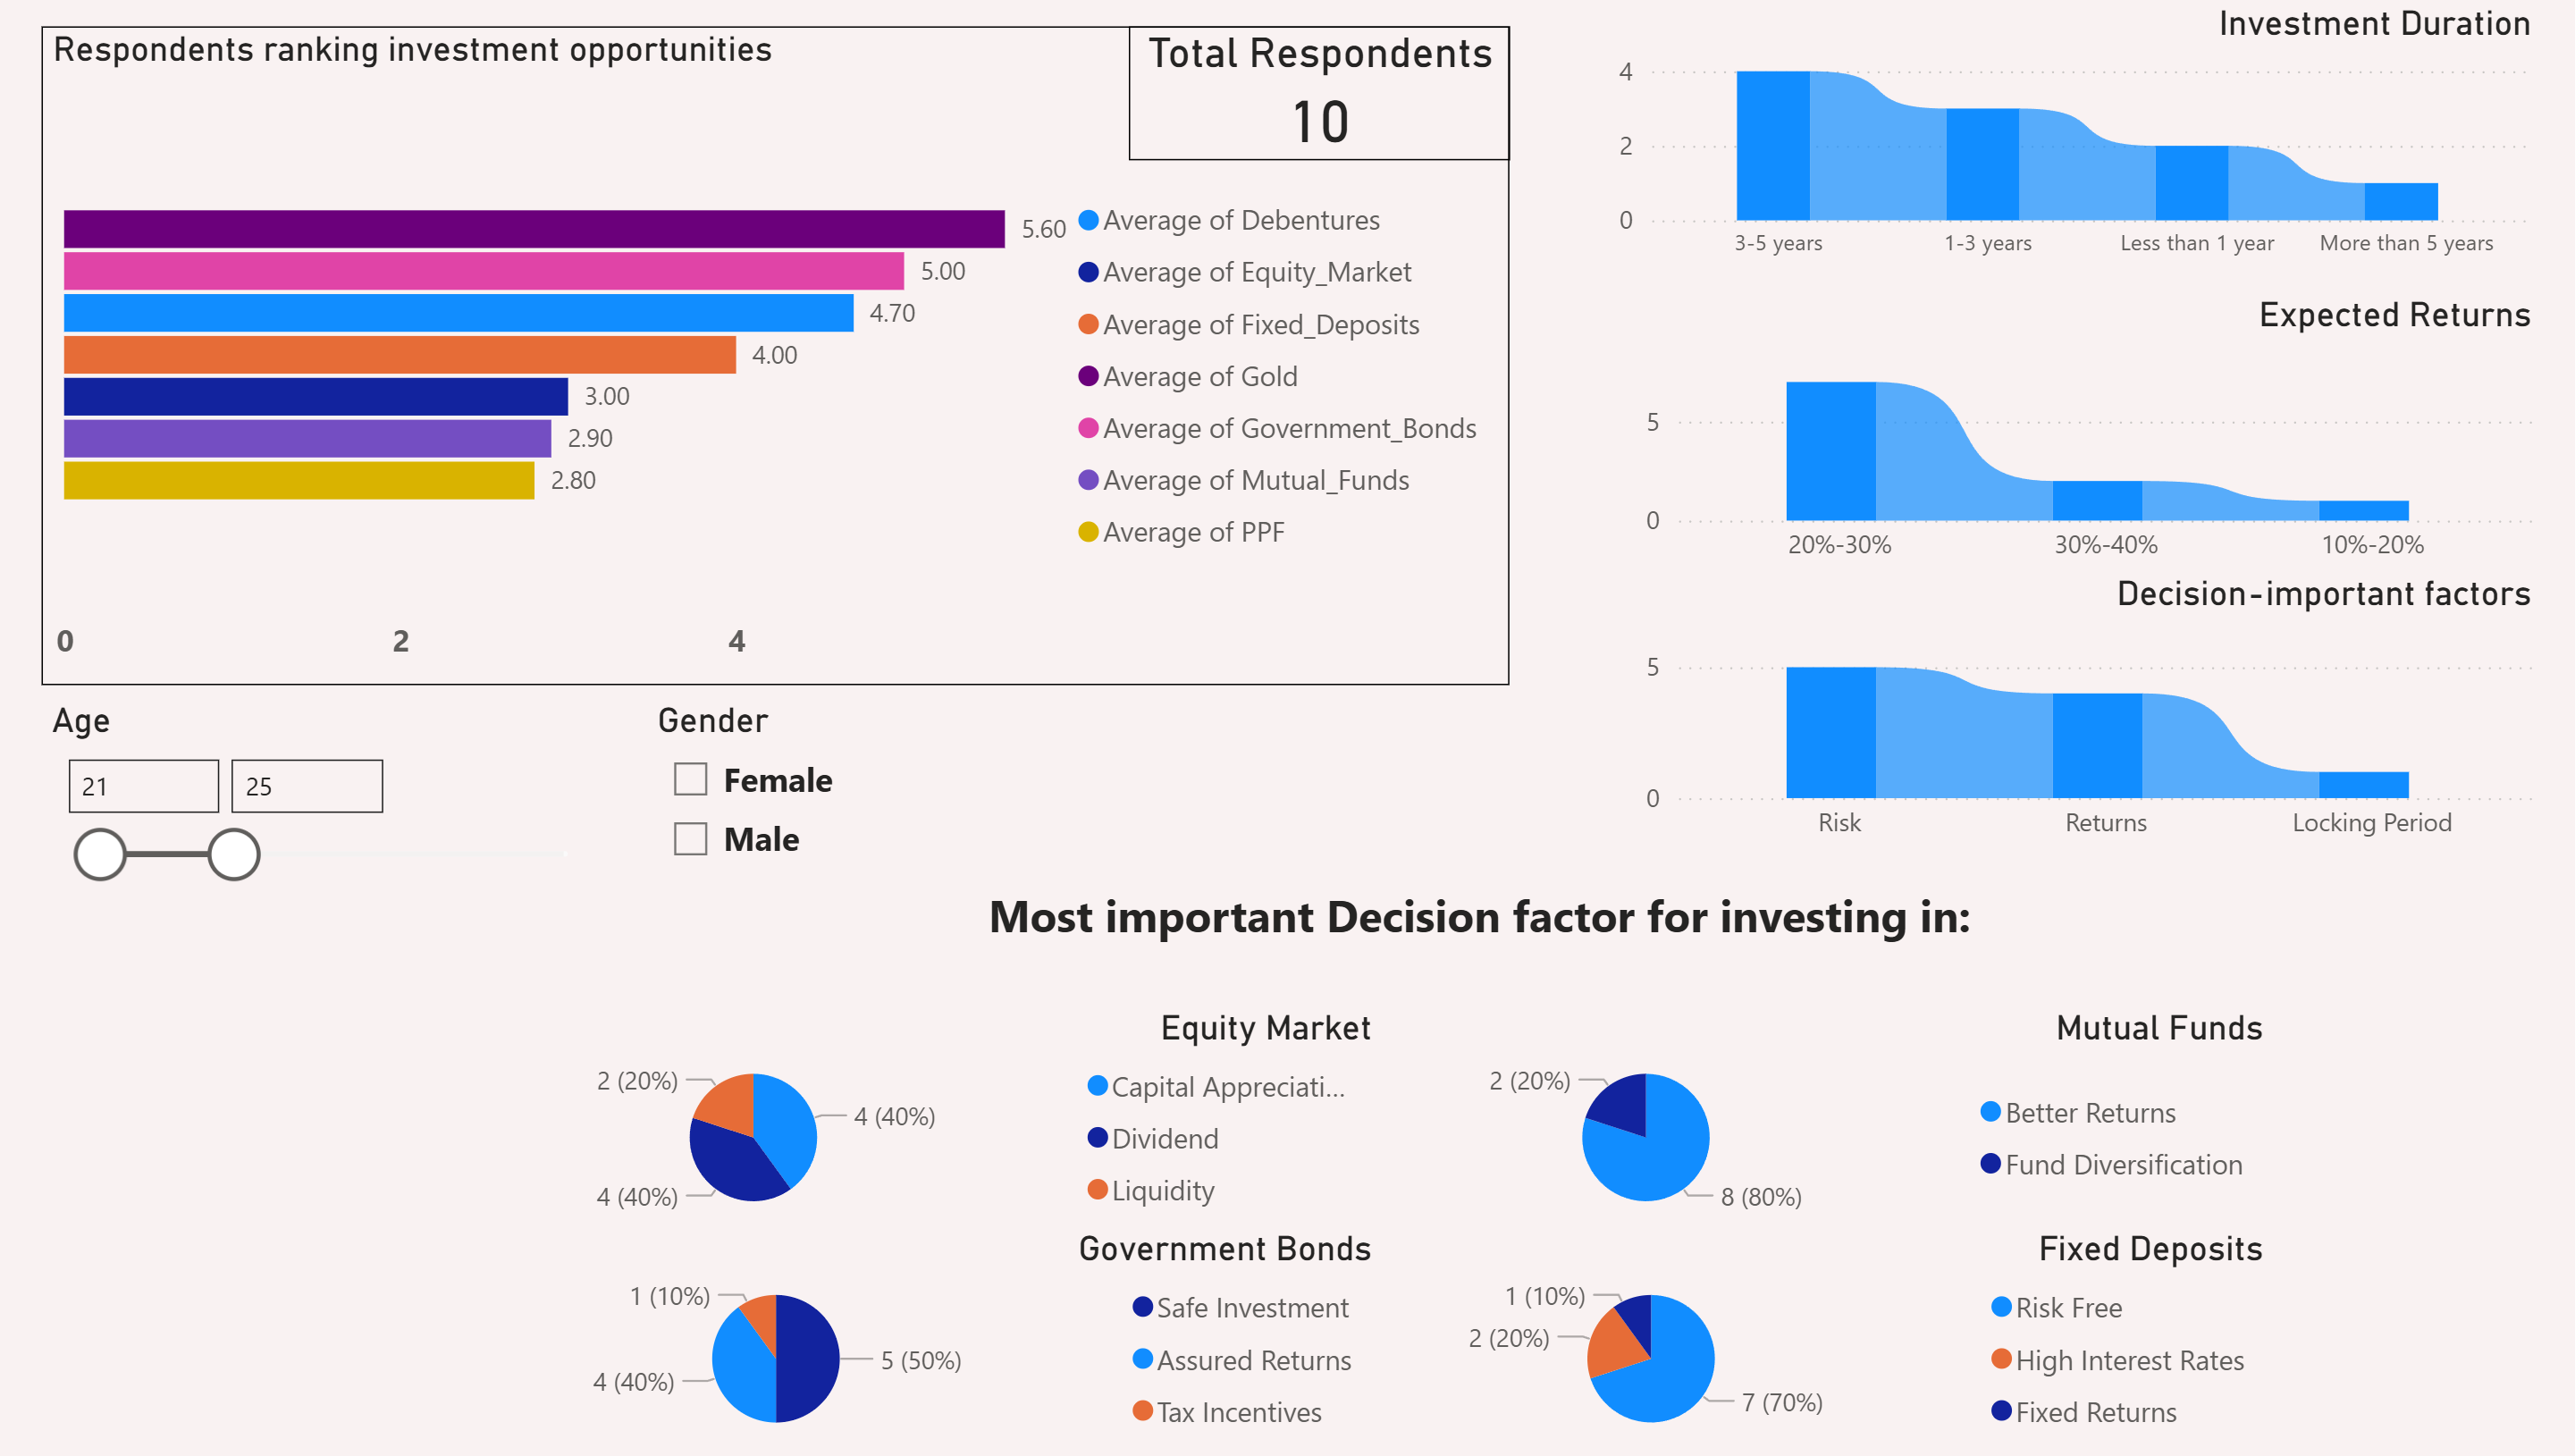

What the dashboard file says about the page in this screenshot:
{"tool":"powerbi","page":{"name":"Page 1","canvas":[1280,720],"ordinal":0},"visuals":[{"type":"slicer","fields":{"Values":["finance_dataset finance_data.age"]},"box":[16.3,340.1,277.9,97.4],"z":0},{"type":"slicer","fields":{"Values":["finance_dataset finance_data.gender"]},"box":[309.3,334.8,146.5,91.6],"z":1000},{"type":"clusteredBarChart","title":"Average respondents ranking","fields":{"Y":["Avg(finance_dataset finance_data.Debentures)","Avg(finance_dataset finance_data.Equity_Market)","Avg(finance_dataset finance_data.Fixed_Deposits)","Avg(finance_dataset finance_data.Gold)","Avg(finance_dataset finance_data.Government_Bonds)","Avg(finance_dataset finance_data.Mutual_Funds)","Avg(finance_dataset finance_data.PPF)"]},"box":[0,7.2,716.1,315.9],"z":2000},{"type":"pieChart","fields":{"Category":["finance_dataset finance_data.Duration"],"Y":["CountNonNull(finance_dataset finance_data.Duration)"]},"box":[725.9,7.2,456.5,134.7],"z":3000},{"type":"pieChart","fields":{"Category":["finance_dataset finance_data.Expect"],"Y":["CountNonNull(finance_dataset finance_data.Expect)"]},"box":[944.3,359.7,327,109.9],"z":4000},{"type":"pieChart","fields":{"Category":["finance_dataset finance_data.Purpose"],"Y":["CountNonNull(finance_dataset finance_data.Purpose)"]},"box":[689.9,245.2,456.5,114.4],"z":5000},{"type":"pieChart","fields":{"Category":["finance_dataset finance_data.Reason_Bonds"],"Y":["CountNonNull(finance_dataset finance_data.Reason_Bonds)"]},"box":[0,577.9,482.6,107.9],"z":6000},{"type":"pieChart","fields":{"Category":["finance_dataset finance_data.Objective"],"Y":["CountNonNull(finance_dataset finance_data.Objective)"]},"box":[775.6,141.9,504.2,108.6],"z":6001},{"type":"pieChart","fields":{"Category":["finance_dataset finance_data.Reason_Equity"],"Y":["CountNonNull(finance_dataset finance_data.Reason_Equity)"]},"box":[0,449.9,506.8,107.9],"z":6002},{"type":"pieChart","fields":{"Category":["finance_dataset finance_data.Reason_FD"],"Y":["CountNonNull(finance_dataset finance_data.Reason_FD)"]},"box":[506.8,449.9,482.6,107.9],"z":6003},{"type":"pieChart","fields":{"Category":["finance_dataset finance_data.Reason_Mutual"],"Y":["CountNonNull(finance_dataset finance_data.Reason_Mutual)"]},"box":[506.8,577.9,482.6,107.9],"z":6004}]}

Visuals, with their boxes in screenshot pixels (x1, y1, x2, y2), scaled from the page's 1280x720 canvas onto the 2575x1456 screenshot:
slicer - finance_dataset finance_data.age: <box>33,687,592,885</box>
slicer - finance_dataset finance_data.gender: <box>622,677,917,863</box>
"Average respondents ranking" clusteredBarChart: <box>0,14,1441,653</box>
pieChart - finance_dataset finance_data.Duration x CountNonNull(finance_dataset finance_data.Duration): <box>1460,14,2378,287</box>
pieChart - finance_dataset finance_data.Expect x CountNonNull(finance_dataset finance_data.Expect): <box>1899,728,2557,949</box>
pieChart - finance_dataset finance_data.Purpose x CountNonNull(finance_dataset finance_data.Purpose): <box>1388,496,2306,728</box>
pieChart - finance_dataset finance_data.Reason_Bonds x CountNonNull(finance_dataset finance_data.Reason_Bonds): <box>0,1168,971,1387</box>
pieChart - finance_dataset finance_data.Objective x CountNonNull(finance_dataset finance_data.Objective): <box>1561,287,2574,507</box>
pieChart - finance_dataset finance_data.Reason_Equity x CountNonNull(finance_dataset finance_data.Reason_Equity): <box>0,910,1020,1128</box>
pieChart - finance_dataset finance_data.Reason_FD x CountNonNull(finance_dataset finance_data.Reason_FD): <box>1020,910,1990,1128</box>
pieChart - finance_dataset finance_data.Reason_Mutual x CountNonNull(finance_dataset finance_data.Reason_Mutual): <box>1020,1168,1990,1387</box>
